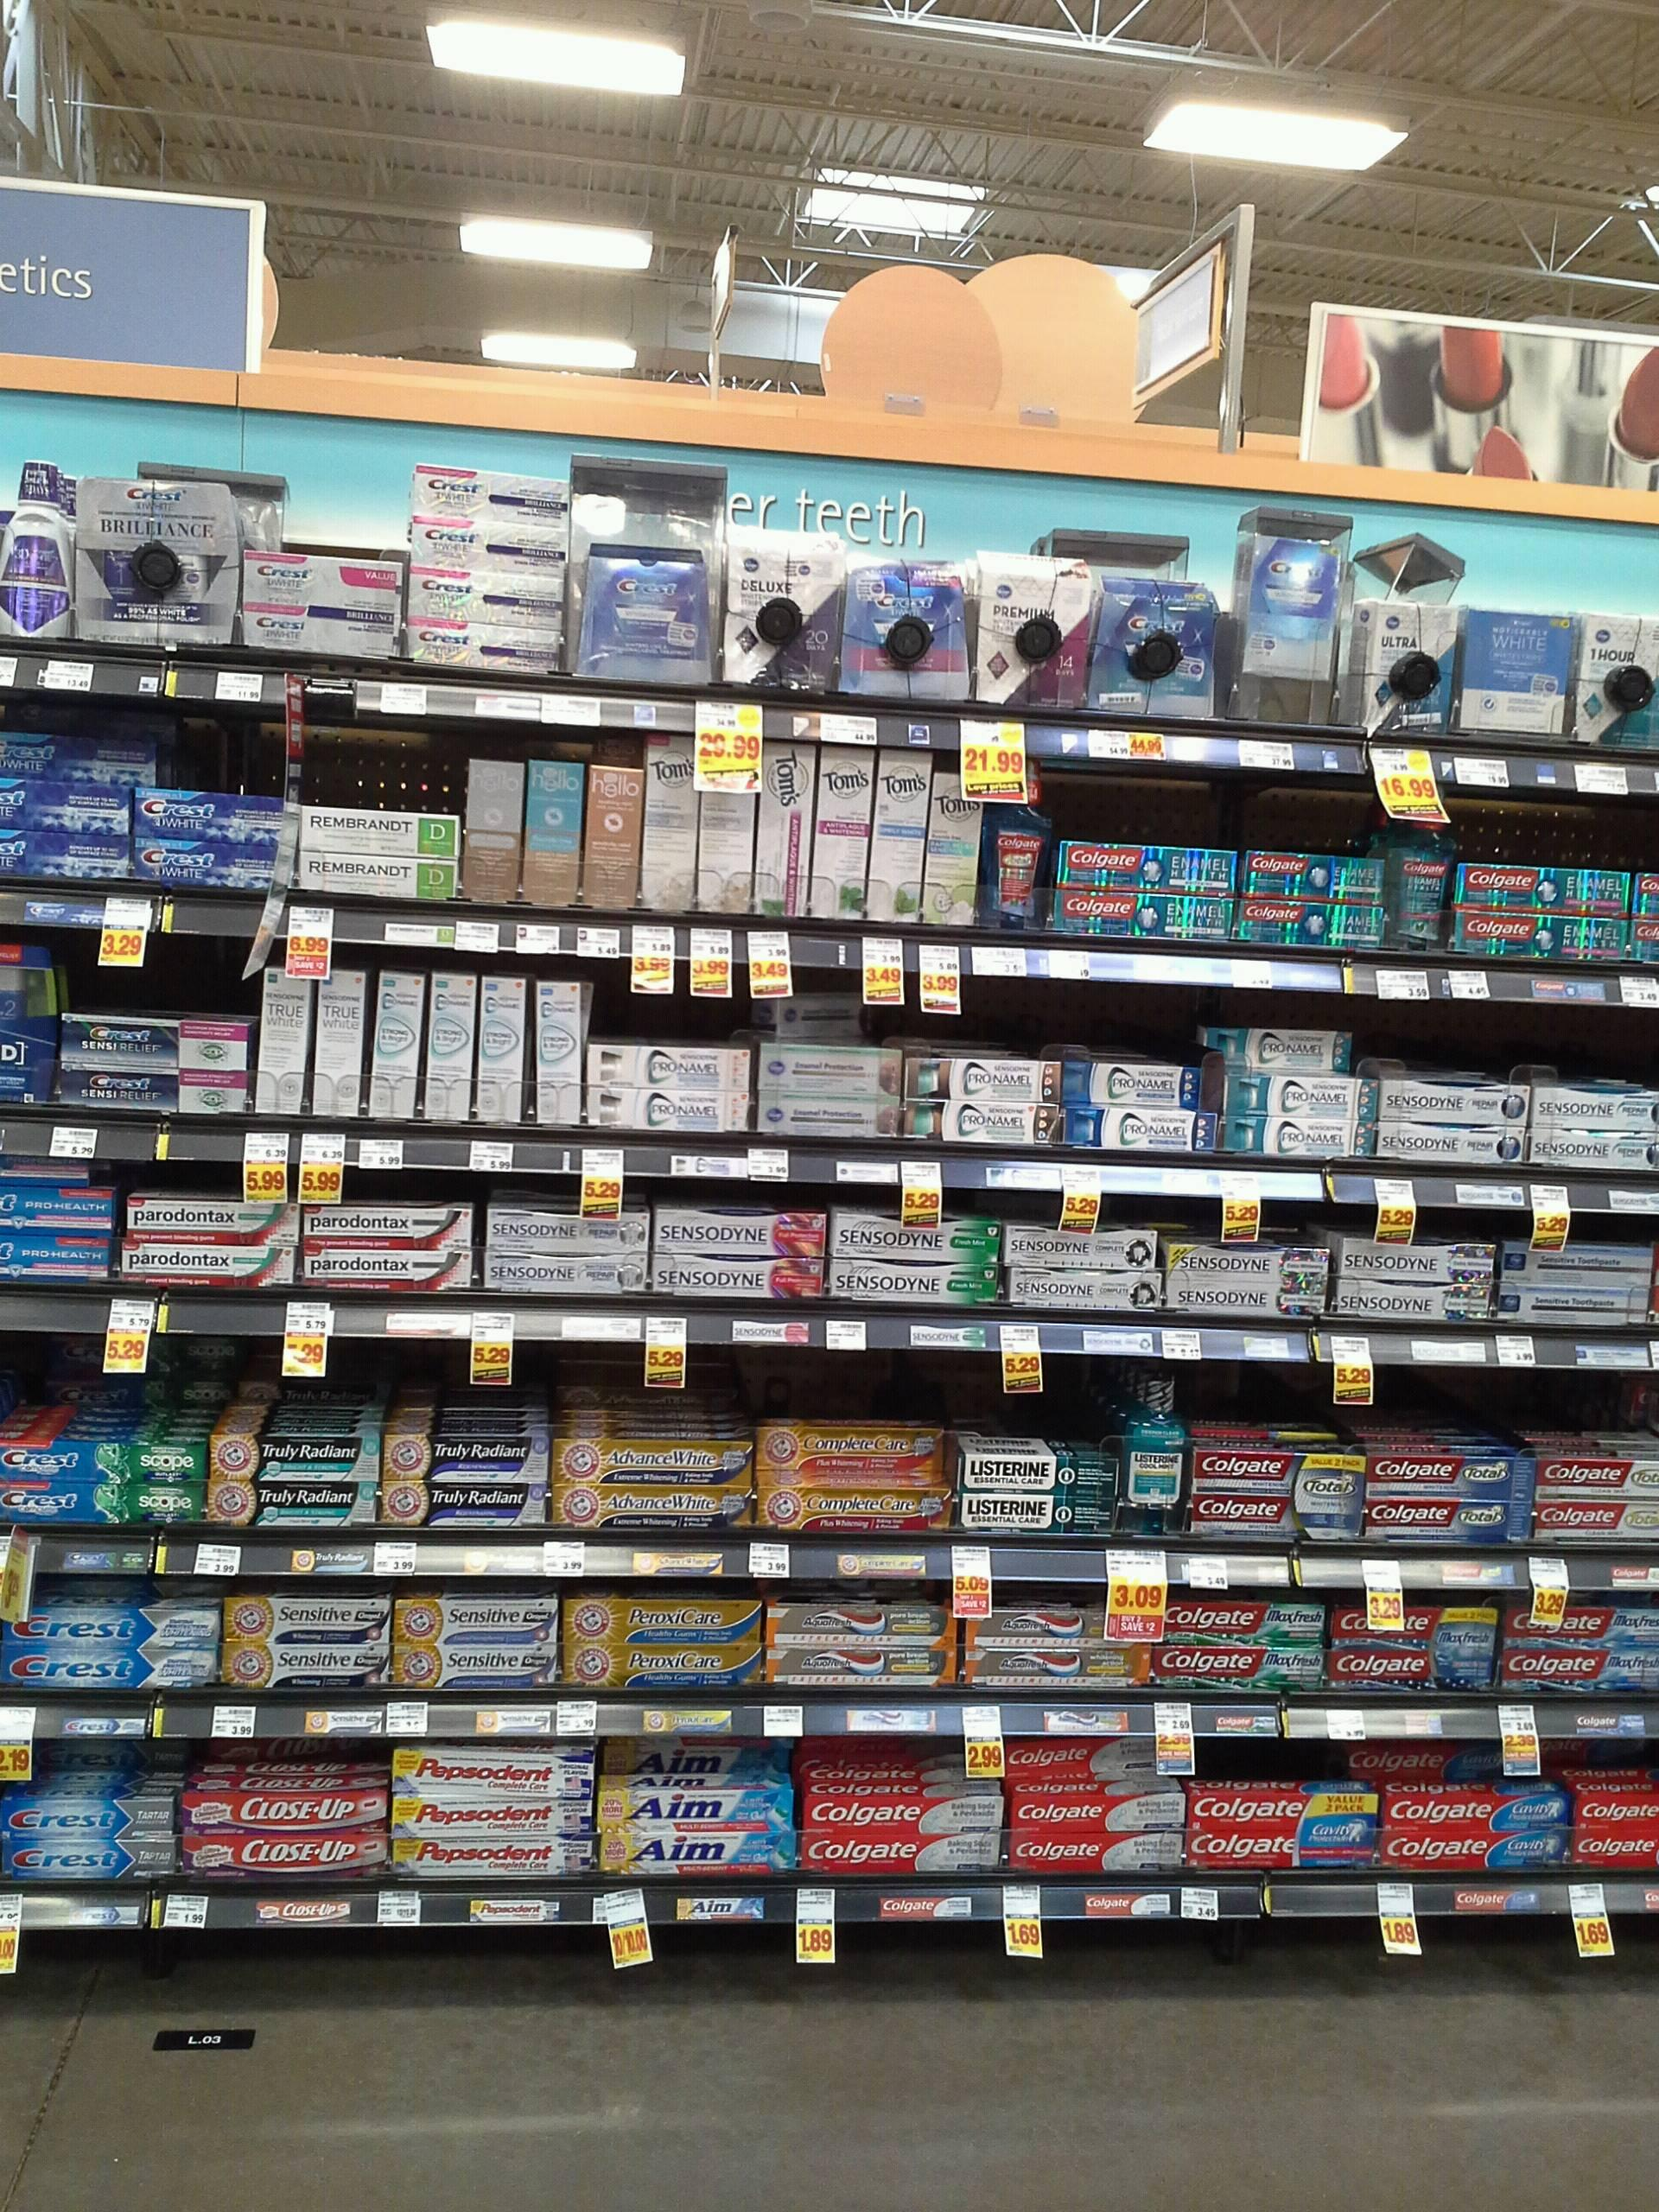misalignment: (760, 991, 884, 1040)
